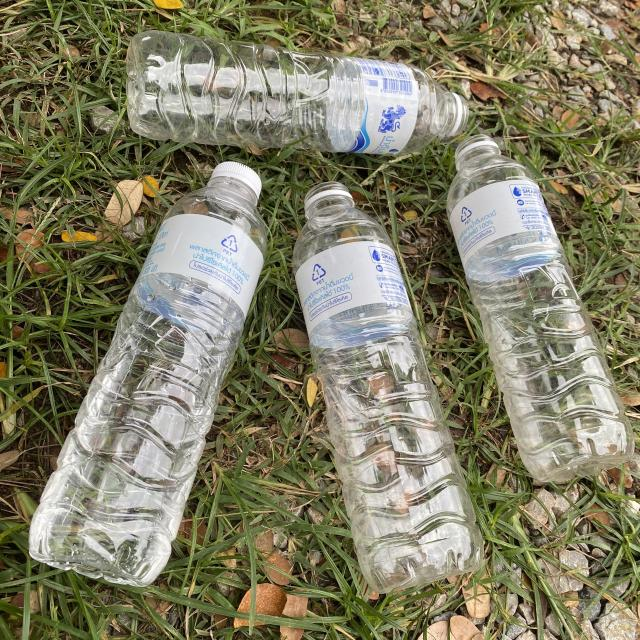plastik: (29, 161, 266, 586), (294, 182, 482, 594), (448, 135, 634, 482), (126, 31, 469, 155)
